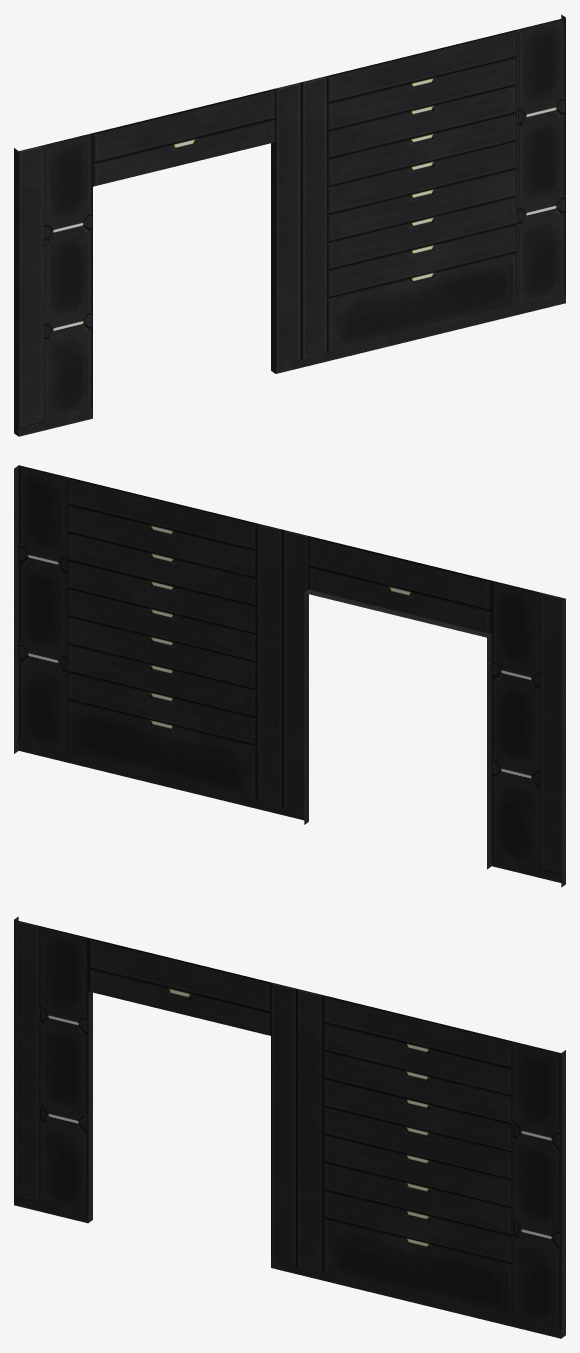
Rendered from Prop_Door_wall_01_mirror.fbx.
3 views of the same model, one above another, from view 1: azimuth 30°, elevation 25°; view 2: azimuth 150°, elevation 25°; view 3: azimuth 330°, elevation 25° (orthographic).
Parts seen in each view (by area): view 1: Prop_Door_wall_01_mirror; view 2: Prop_Door_wall_01_mirror; view 3: Prop_Door_wall_01_mirror.
Part boxes in pixels (bbox=[...]): Prop_Door_wall_01_mirror: bbox=[14, 14, 565, 436]; Prop_Door_wall_01_mirror: bbox=[14, 465, 565, 887]; Prop_Door_wall_01_mirror: bbox=[14, 916, 565, 1338].
Bounding box in the file's own units: 6667 × 100 × 3324.
